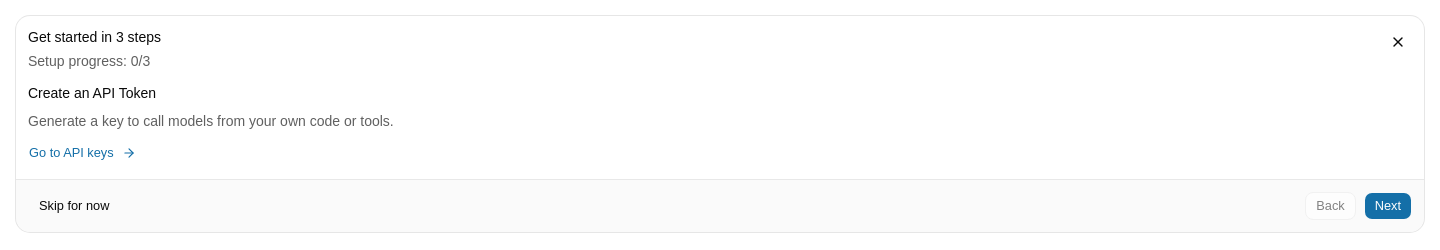
Test case: onboarding guide (B2-3) › back returns to the previous step and never leaves step 1
Check: the button "Back" is disabled, box [1305, 192, 1356, 220]
Click the button "Next": (1388, 206) [1364, 192, 1412, 220]
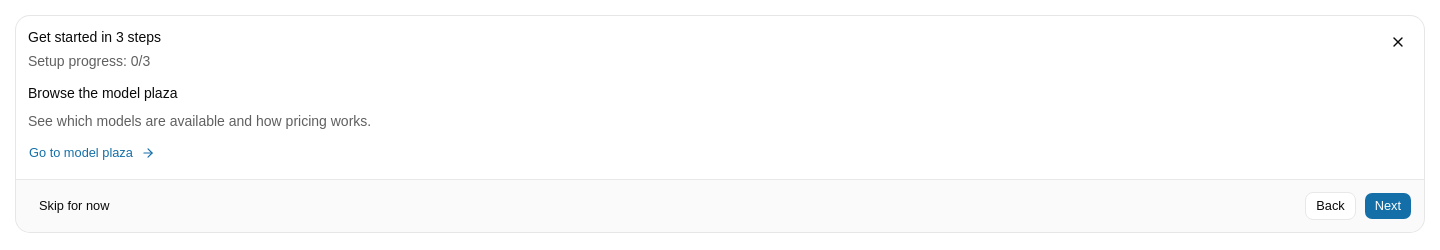
Click the button "Back": (1330, 206) [1305, 192, 1356, 220]
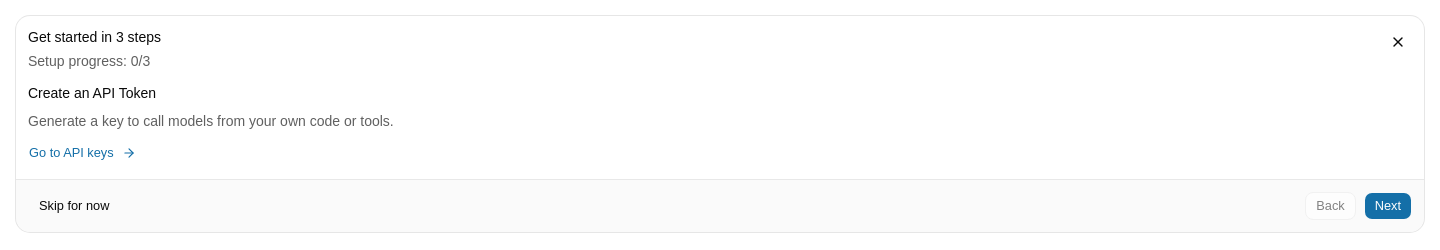
Check: the heading "Create an API Token" is shown, box [28, 85, 156, 101]
